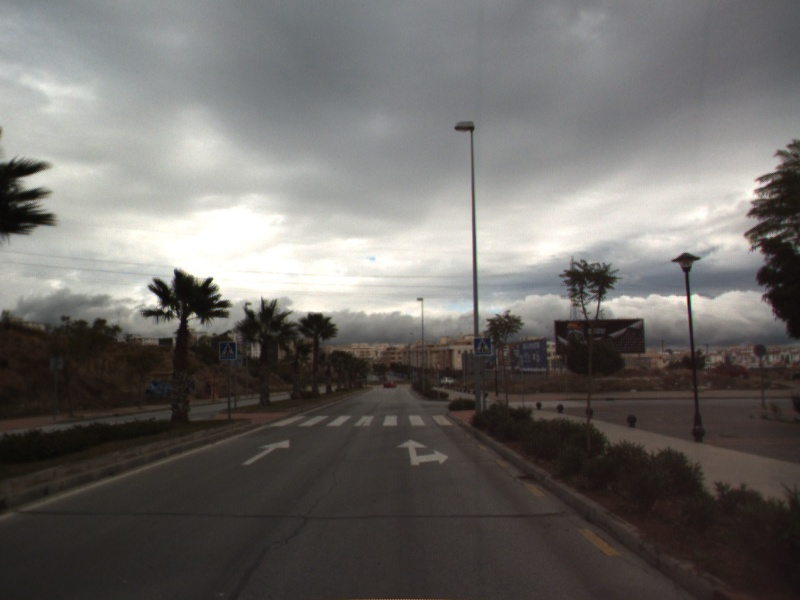STRAIGHT: (240, 438, 291, 467)
STRAIGHT_RIGHT: (394, 437, 450, 467)
